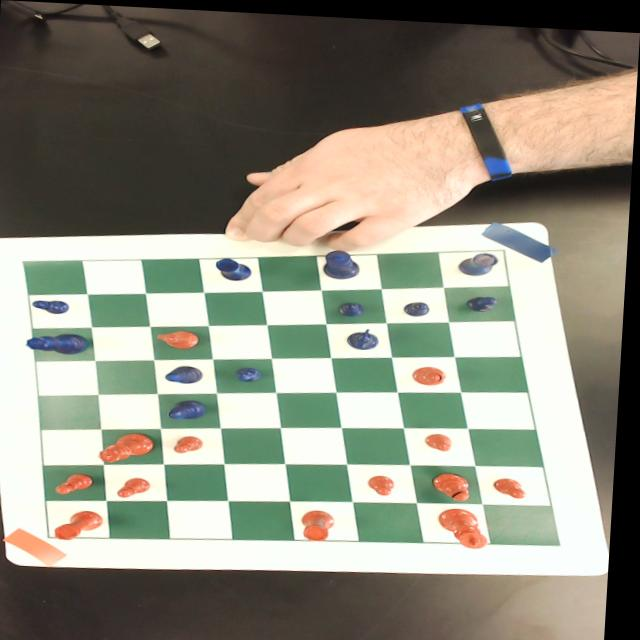B: (171, 397, 212, 418), (168, 363, 208, 383)
K: (324, 245, 364, 277)
N: (346, 324, 385, 347)
P: (35, 299, 73, 315), (468, 290, 499, 307), (238, 364, 268, 380), (340, 298, 369, 314), (405, 297, 434, 313)
Q: (28, 331, 92, 355)
R: (458, 245, 501, 272), (215, 254, 256, 280)
b: (435, 467, 479, 497), (414, 361, 451, 382)
cb: (25, 244, 565, 539)
k: (441, 502, 495, 544)
n: (159, 327, 204, 348)
p: (60, 471, 99, 495), (121, 475, 156, 498), (497, 472, 532, 494), (177, 433, 208, 453), (371, 471, 399, 492), (428, 428, 458, 447)
q: (102, 431, 160, 463)
r: (59, 508, 109, 541), (305, 506, 342, 538)
